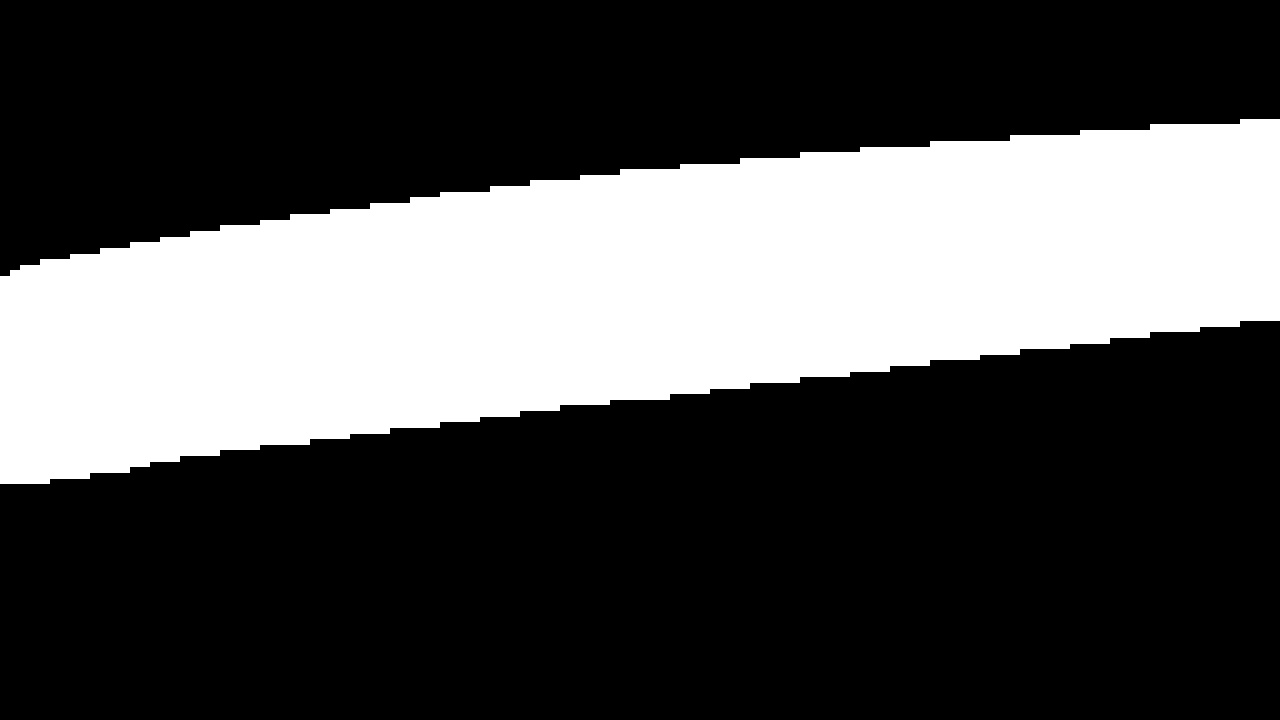Turbine: (11, 96, 1268, 506)
